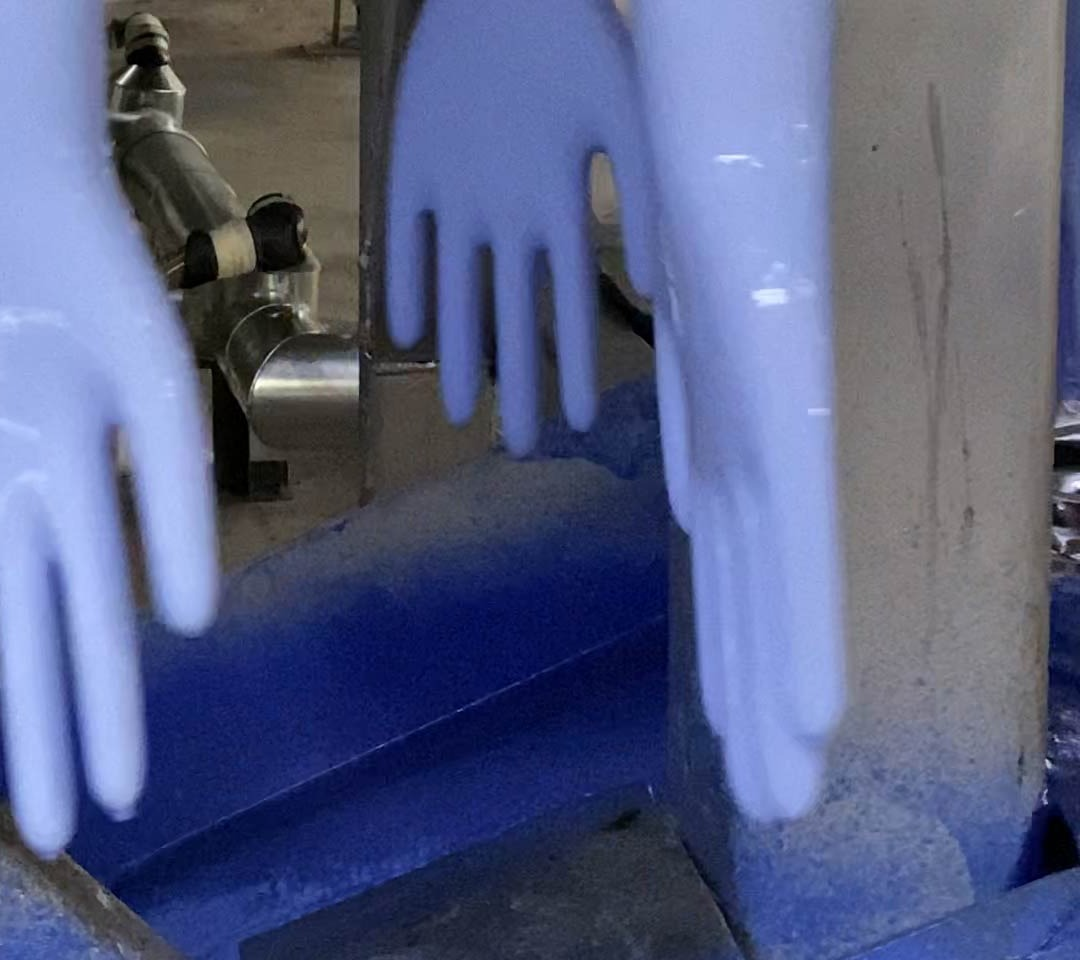glove: (1, 1, 233, 887), (657, 1, 852, 840), (369, 3, 654, 458)
